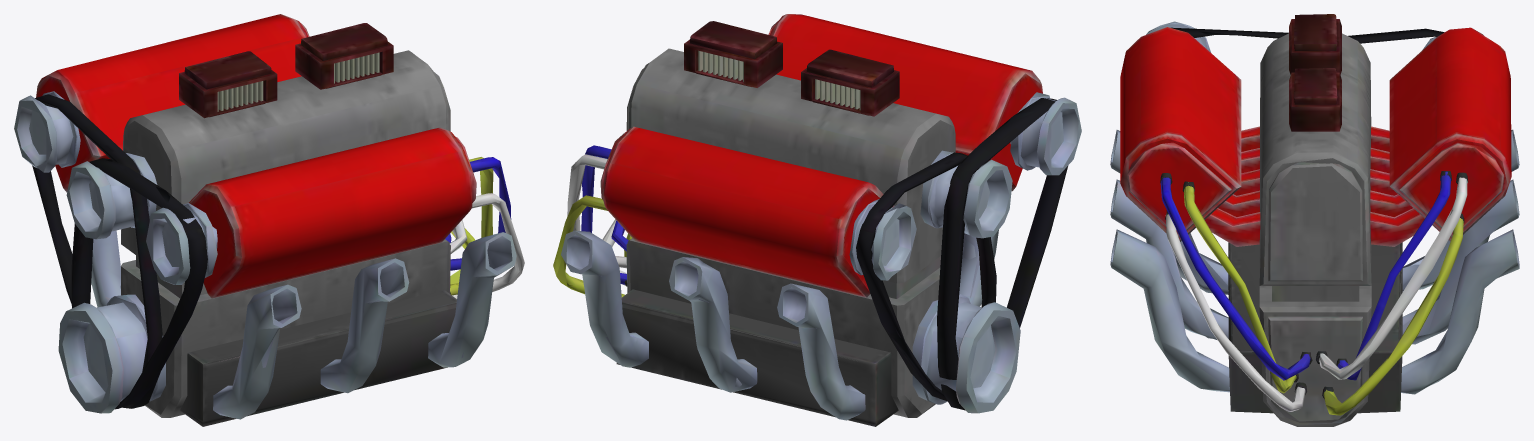
Rendered from car_engine.glb.
3 views of the same model, side by side, from view 1: azimuth 30°, elevation 25°; view 2: azimuth 150°, elevation 25°; view 3: azimuth 270°, elevation 25° (orthographic). The views are drawn at different scales.
Visible parts, largest first — view 1: defaultMaterial; view 2: defaultMaterial; view 3: defaultMaterial.
Part boxes in pixels (x1,y1,x2,y2): defaultMaterial: (14,14,524,426); defaultMaterial: (553,14,1081,426); defaultMaterial: (1110,14,1519,426).
Size of the model in its own units: 867 by 654 by 783.
1 material, 1 textured.
